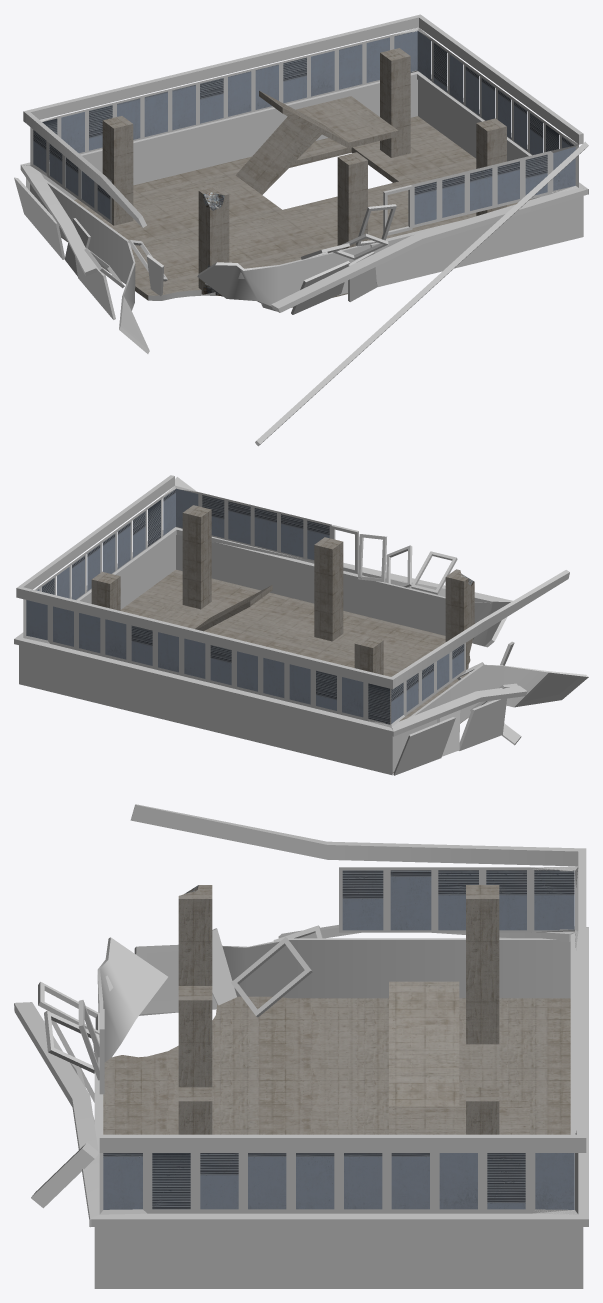
Rendered from Ruin2D_LOD1.fbx.
The picture shows the model from 3 angles, top to bottom: view 1: azimuth 30°, elevation 25°; view 2: azimuth 150°, elevation 25°; view 3: azimuth 270°, elevation 25°; orthographic projection. The views are drawn at different scales.
Parts seen in each view (by area): view 1: polySurface458; view 2: polySurface458; view 3: polySurface458.
Boxes of the visible parts, box(x1,y1,x2,y2) form: polySurface458: box(14, 14, 588, 446); polySurface458: box(14, 475, 588, 775); polySurface458: box(14, 804, 588, 1288).
Size of the model in its own units: 16.41 by 7.88 by 12.01.
